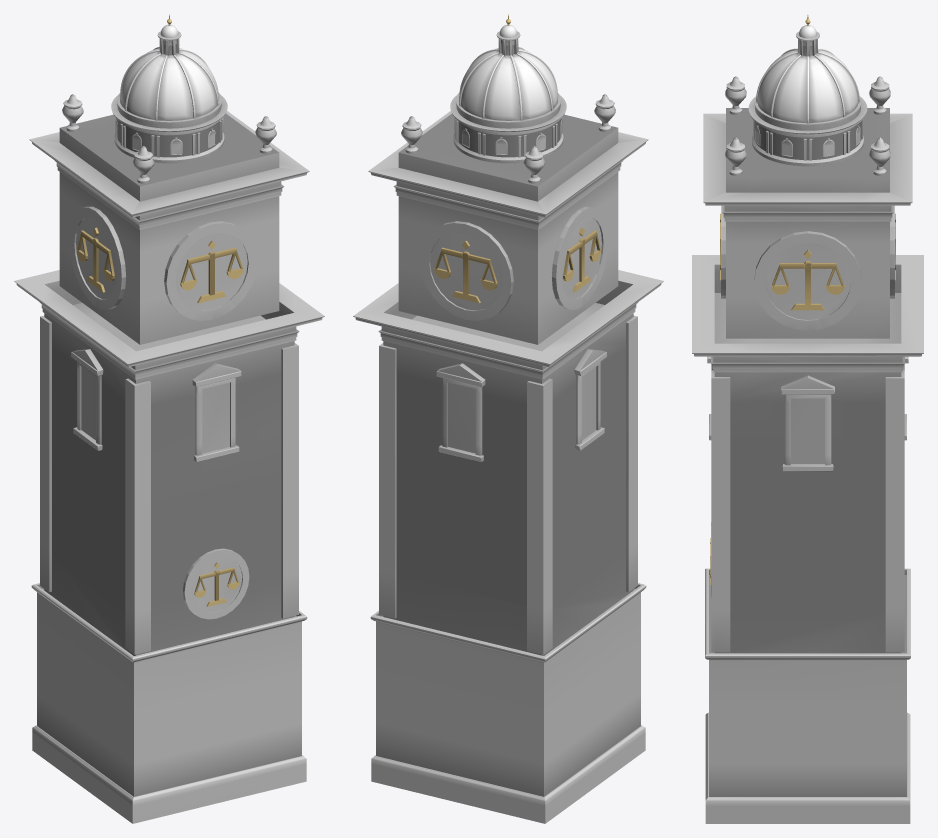
File: exch_tower.glb
3 renders of one model, left to right at view 1: azimuth 30°, elevation 25°; view 2: azimuth 150°, elevation 25°; view 3: azimuth 270°, elevation 25°, orthographic.
Visible parts, largest first — view 1: exch_tower_CL_Stone, exch_tower_CL_Copper, exch_tower_CL_Glass, exch_tower_CL_Gilt; view 2: exch_tower_CL_Stone, exch_tower_CL_Copper, exch_tower_CL_Glass, exch_tower_CL_Gilt; view 3: exch_tower_CL_Stone, exch_tower_CL_Copper, exch_tower_CL_Glass, exch_tower_CL_Gilt.
Boxes of the visible parts, x1=… form: exch_tower_CL_Stone: x1=14, y1=31, x2=324, y2=823; exch_tower_CL_Copper: x1=76, y1=24, x2=247, y2=611; exch_tower_CL_Glass: x1=81, y1=121, x2=229, y2=453; exch_tower_CL_Gilt: x1=76, y1=14, x2=243, y2=606; exch_tower_CL_Stone: x1=353, y1=31, x2=663, y2=823; exch_tower_CL_Copper: x1=430, y1=24, x2=601, y2=310; exch_tower_CL_Glass: x1=448, y1=121, x2=596, y2=453; exch_tower_CL_Gilt: x1=434, y1=14, x2=601, y2=303; exch_tower_CL_Stone: x1=692, y1=31, x2=923, y2=823; exch_tower_CL_Copper: x1=756, y1=25, x2=859, y2=319; exch_tower_CL_Glass: x1=755, y1=128, x2=860, y2=463; exch_tower_CL_Gilt: x1=710, y1=15, x2=895, y2=585.
Bounding box in the file's own units: 8.2 × 29.92 × 8.2.
